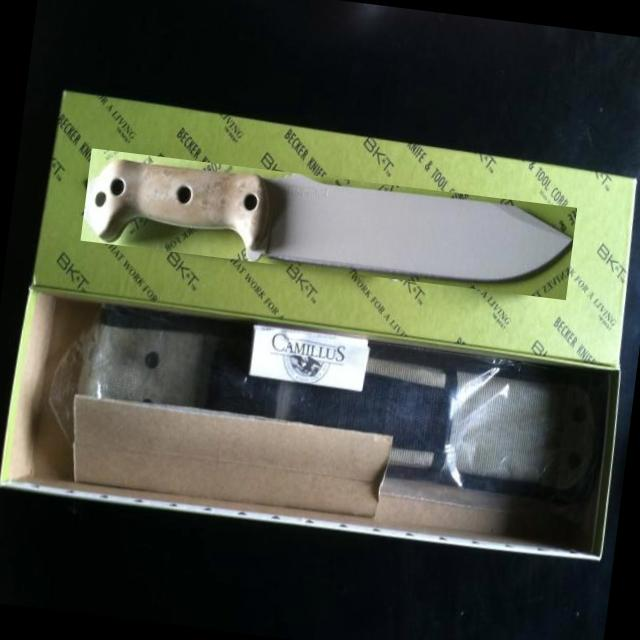Knife: (83, 159, 573, 282)
